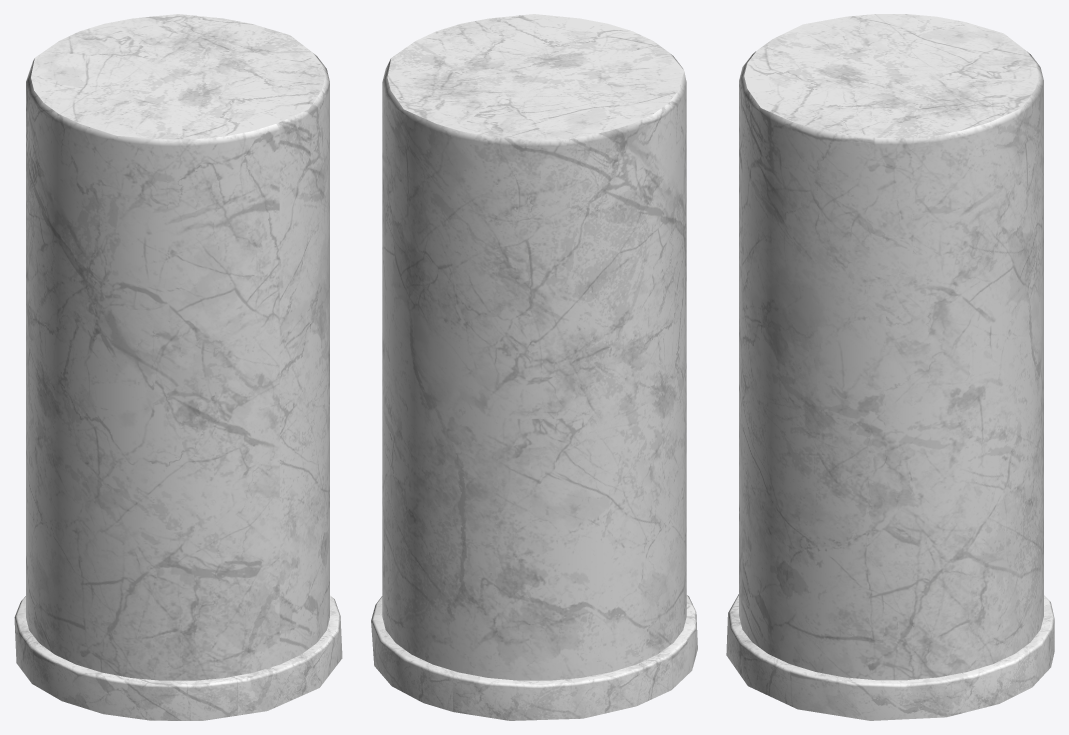
The model's file is SM_Pillar_Cyl_Start.fbx.
3 renders of one model, left to right at view 1: azimuth 30°, elevation 25°; view 2: azimuth 150°, elevation 25°; view 3: azimuth 270°, elevation 25°, orthographic.
Visible parts, largest first — view 1: SM_Pillar_Cyl_Start_LOD0; view 2: SM_Pillar_Cyl_Start_LOD0; view 3: SM_Pillar_Cyl_Start_LOD0.
Part boxes in pixels (bbox=[...]): SM_Pillar_Cyl_Start_LOD0: bbox=[14, 14, 342, 720]; SM_Pillar_Cyl_Start_LOD0: bbox=[371, 14, 697, 720]; SM_Pillar_Cyl_Start_LOD0: bbox=[726, 14, 1054, 720].
Size of the model in its own units: 129 by 129 by 250.
Materials: 1 (1 with a texture image).
